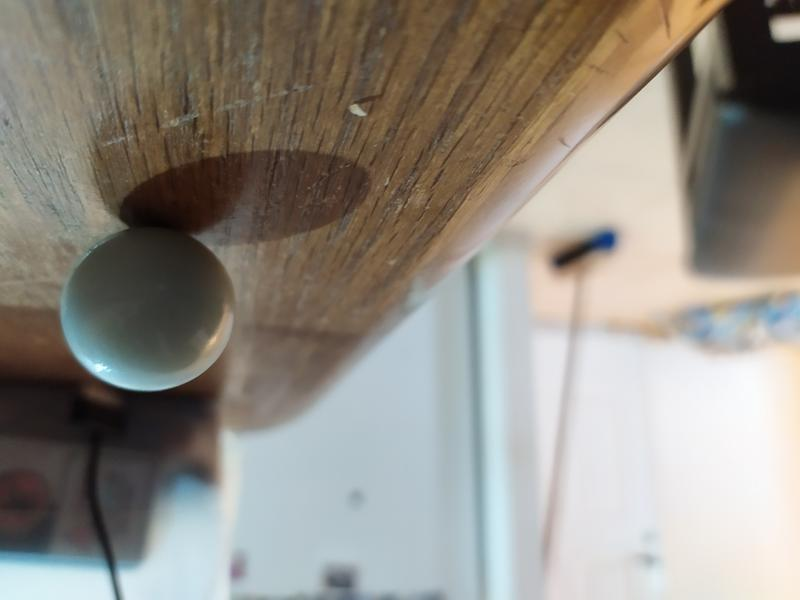Warning: (56, 223, 243, 395)
